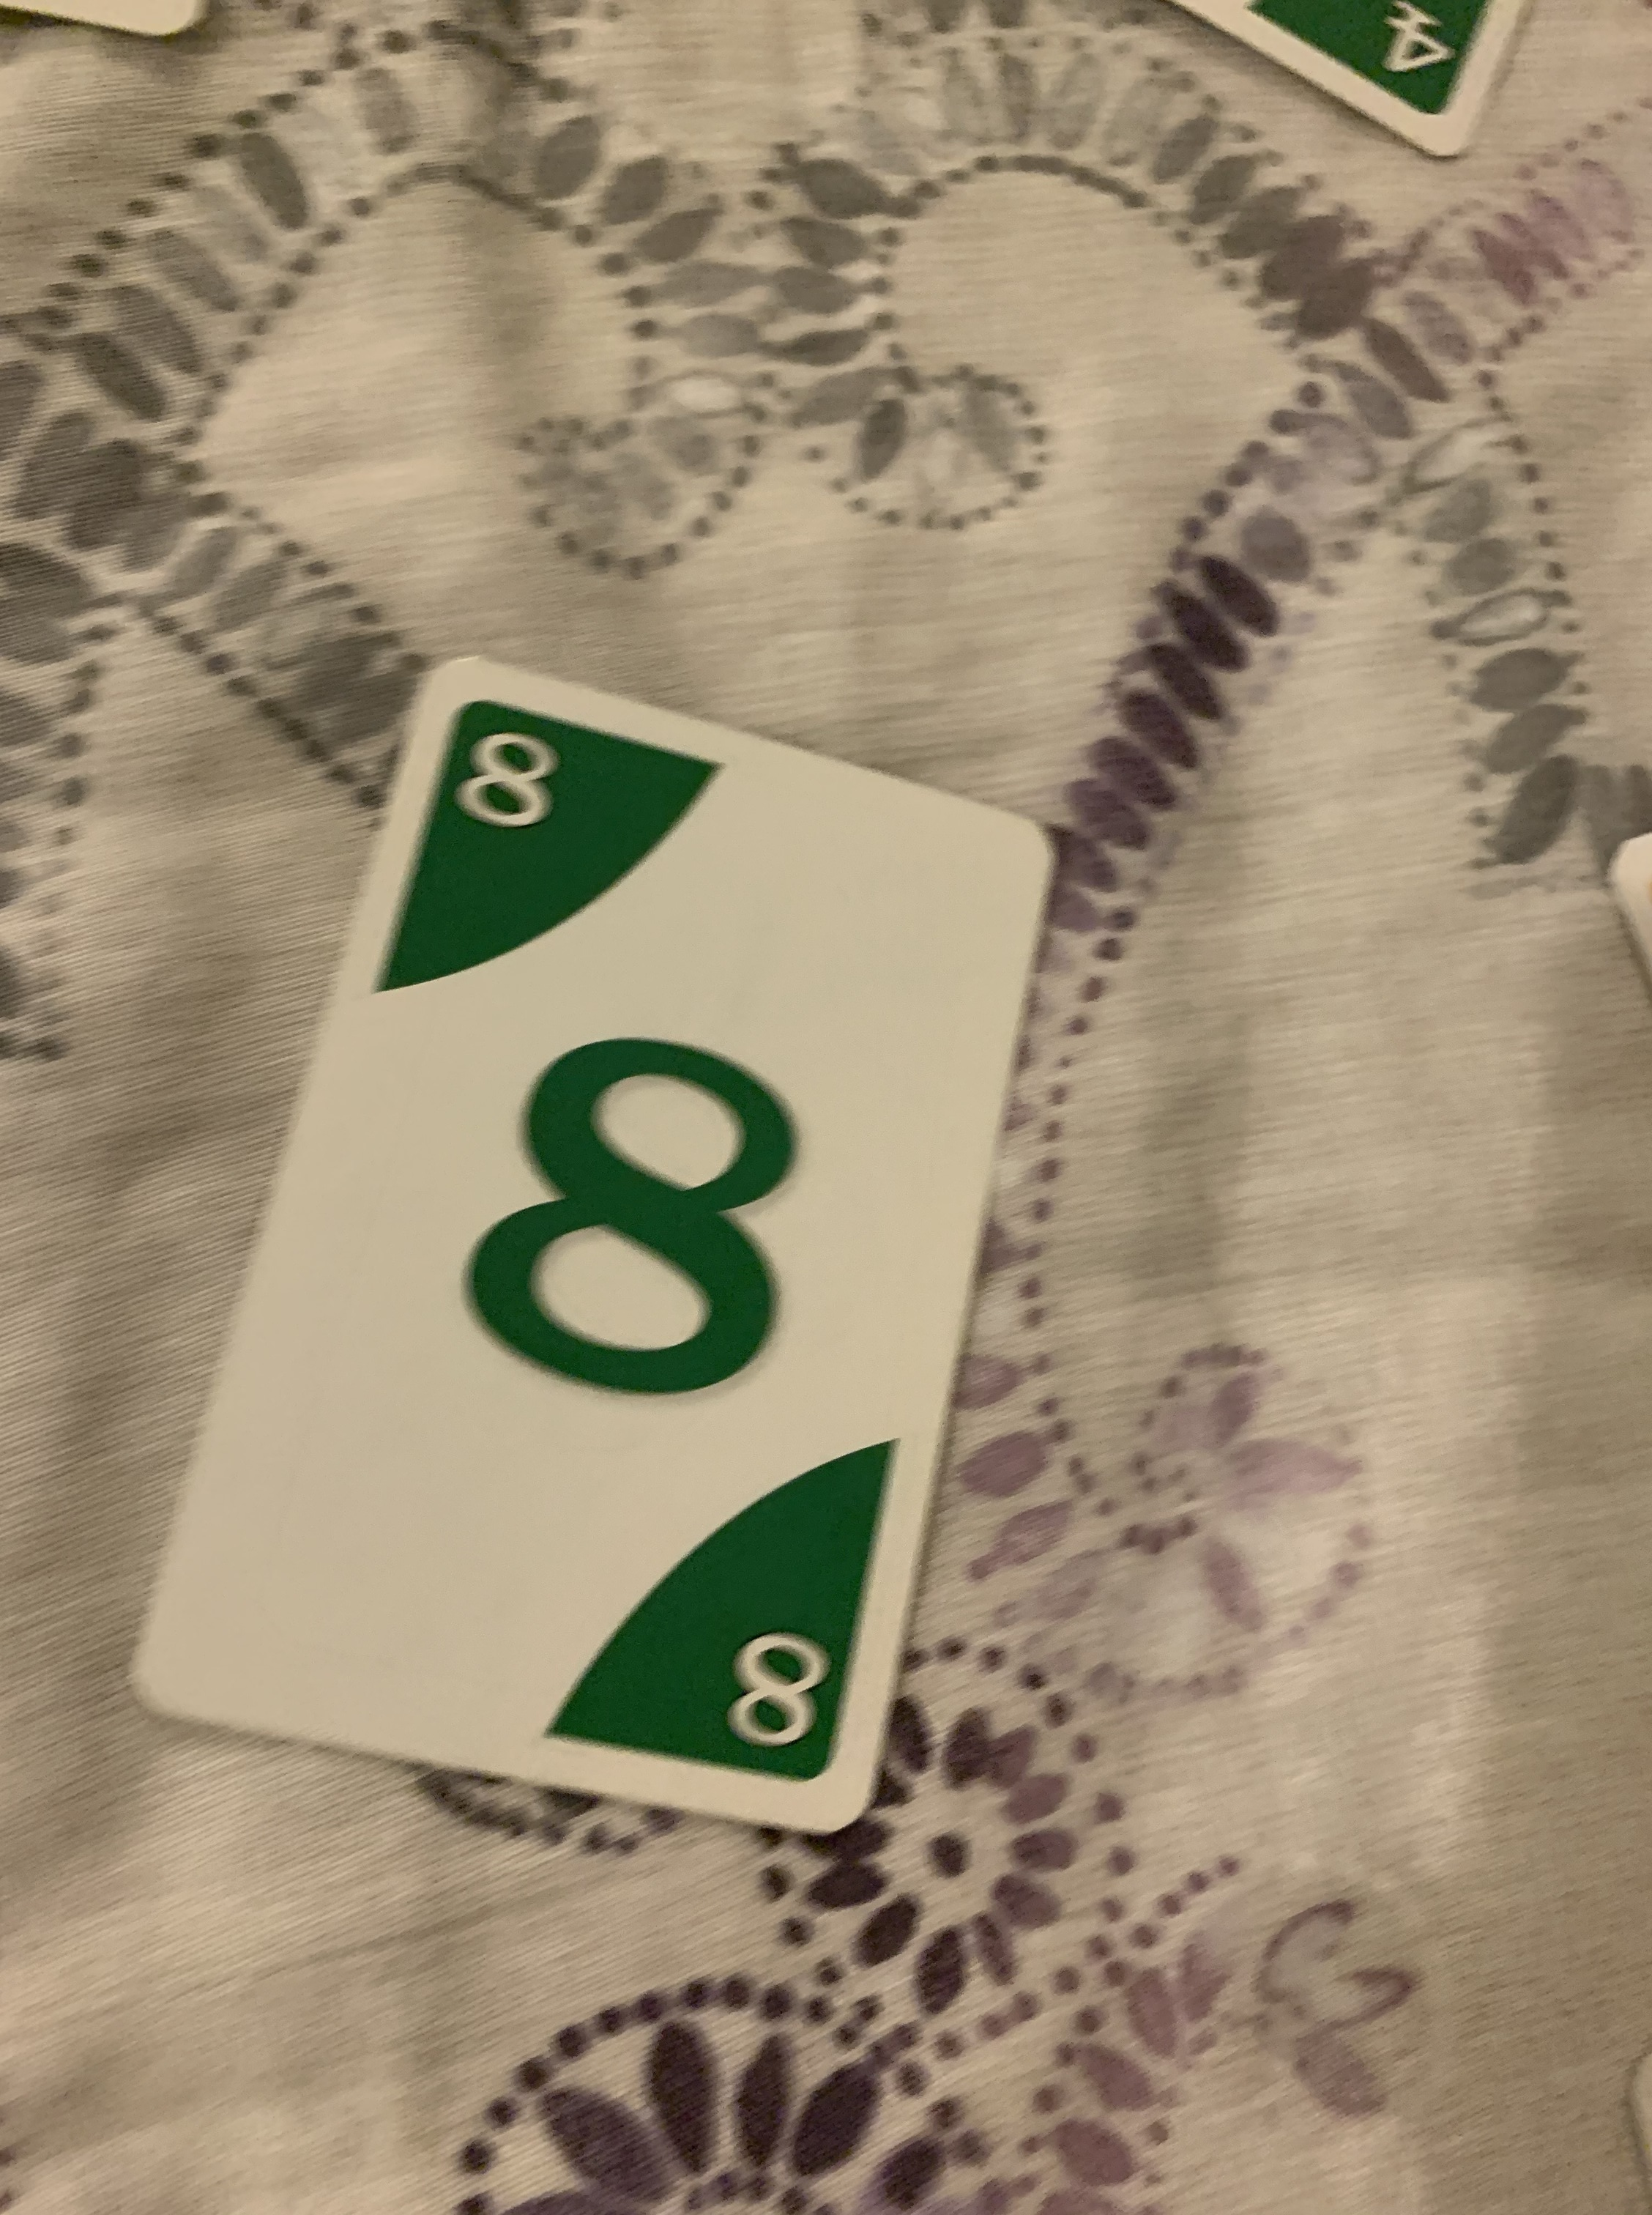eight: (127, 641, 1055, 1830)
